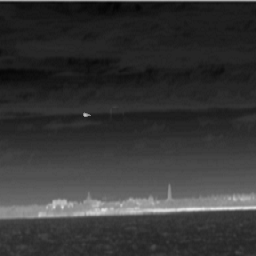Target: (81, 112, 91, 117)
